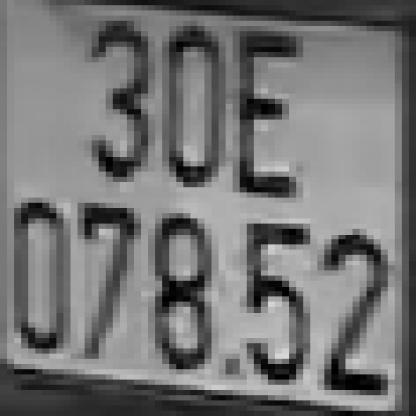0: (155, 26, 226, 182), (7, 203, 71, 348)
2: (317, 229, 388, 390)
3: (92, 26, 148, 182)
5: (240, 218, 303, 380)
7: (78, 208, 141, 354)
8: (155, 208, 205, 364)
E: (226, 31, 296, 198)
